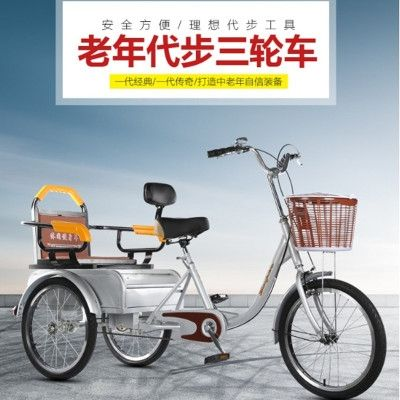empty: (4, 137, 391, 400)
